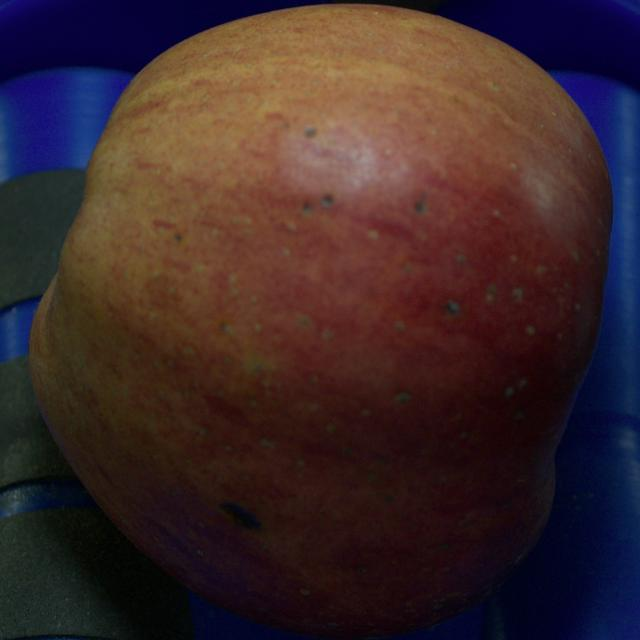apple: (33, 7, 612, 638)
pest: (220, 503, 260, 529), (414, 196, 426, 211), (447, 301, 459, 314), (322, 195, 332, 207), (305, 127, 316, 136), (303, 202, 311, 214), (174, 234, 182, 241)
